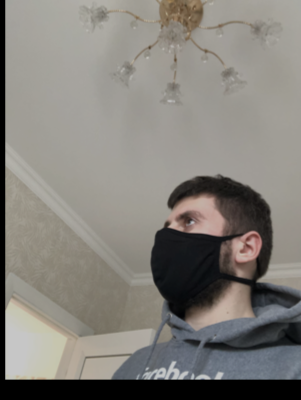with_mask: (151, 207, 228, 307)
